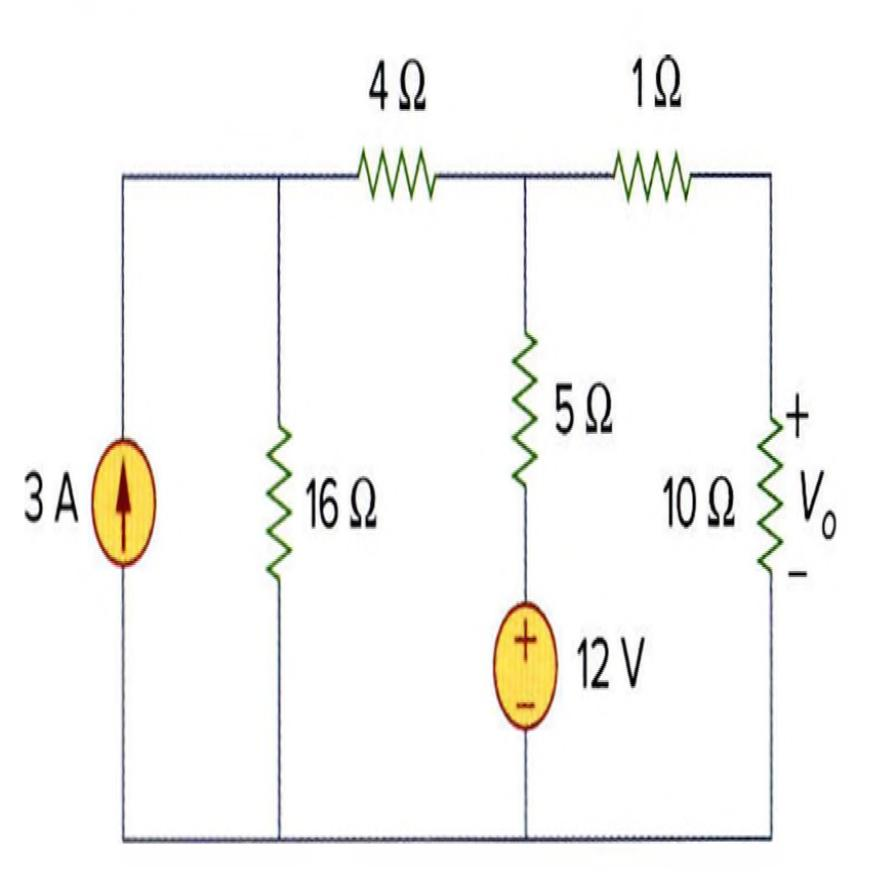I1: (88, 414, 160, 578)
R1: (604, 119, 701, 232), (346, 123, 443, 231)
R2: (250, 390, 304, 617), (495, 304, 548, 498), (746, 391, 790, 603)
V1: (484, 583, 566, 741)
